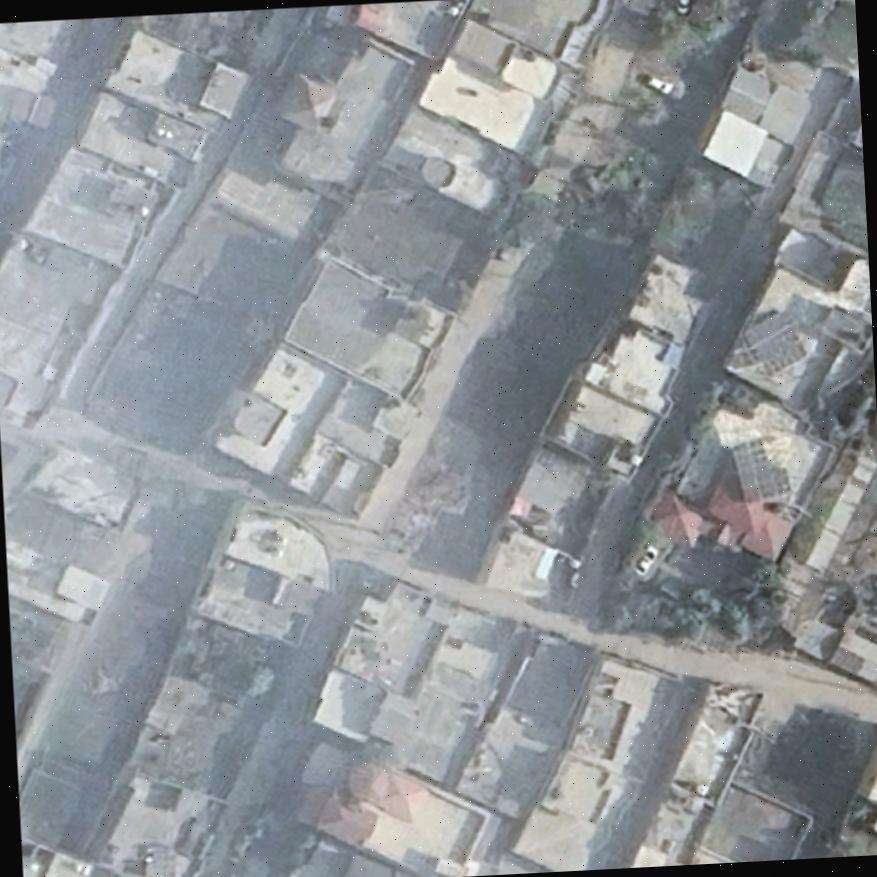Solarpanel: (741, 296, 814, 378), (729, 432, 789, 503)
